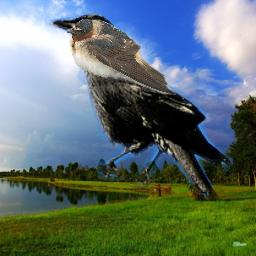Crow: (43, 11, 233, 204)
Swallow: (66, 19, 176, 95)
